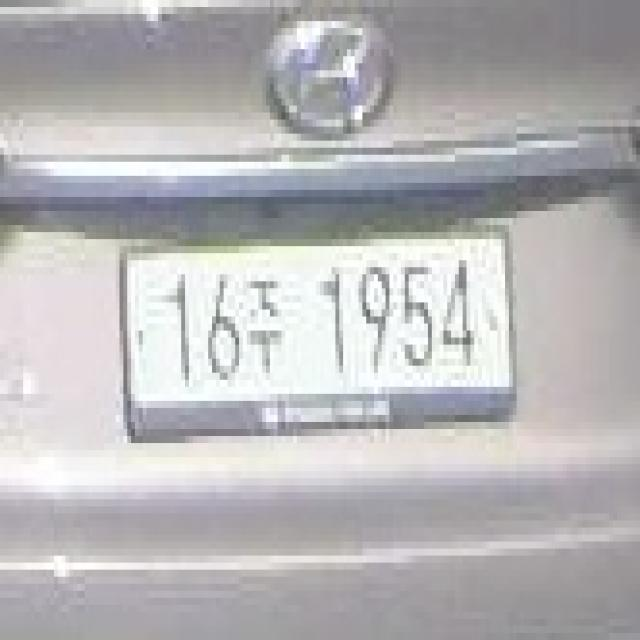1: (162, 260, 200, 401), (320, 253, 351, 387)
4: (440, 253, 478, 373)
5: (401, 253, 439, 373)
6: (200, 267, 243, 387)
9: (355, 253, 397, 380)
ju: (243, 267, 289, 387)
license_plate: (108, 211, 520, 457)
